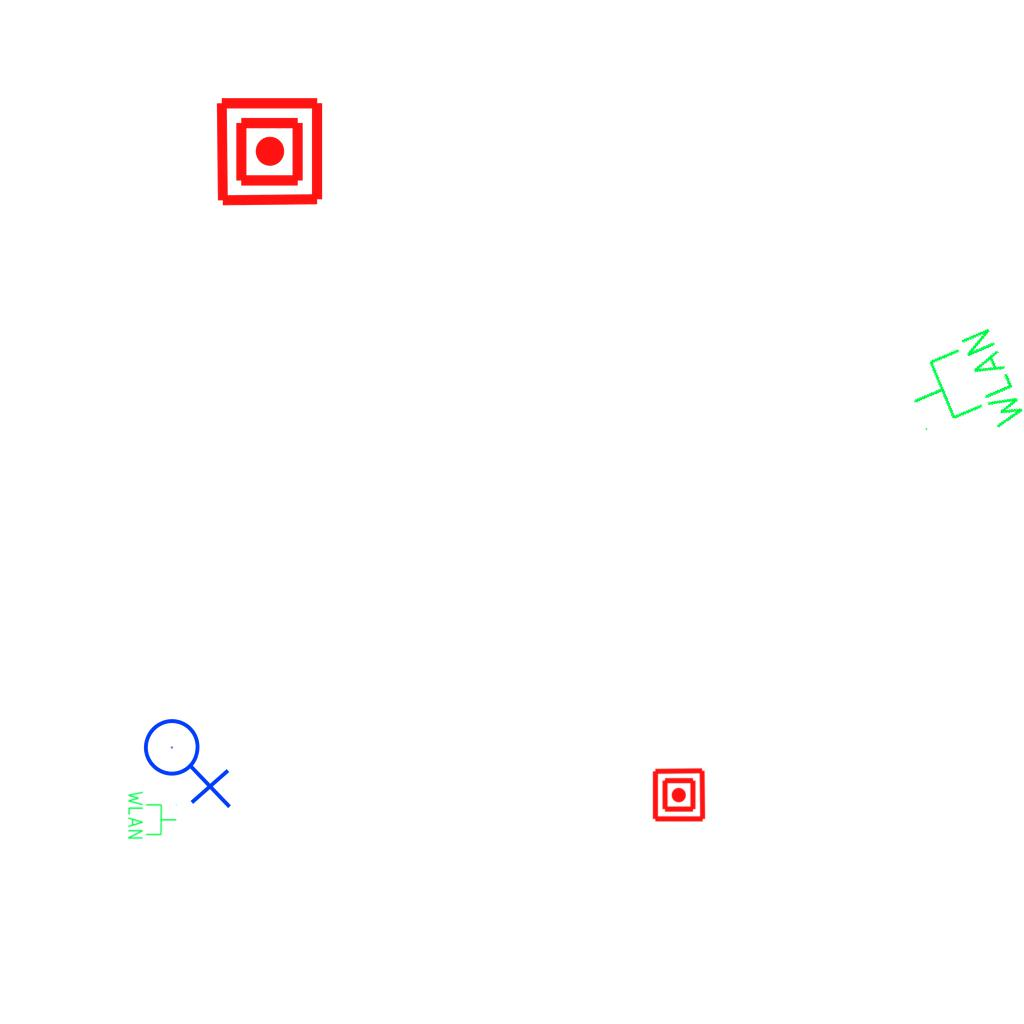Elektroanschluss_allgemein_230V_Geraeteanschlussdose_230V: (142, 710, 236, 809)
NAM-Nichtautomatischer_Melder: (213, 95, 326, 208), (651, 767, 707, 823)
WLAN: (894, 322, 1024, 461), (126, 789, 178, 841)
